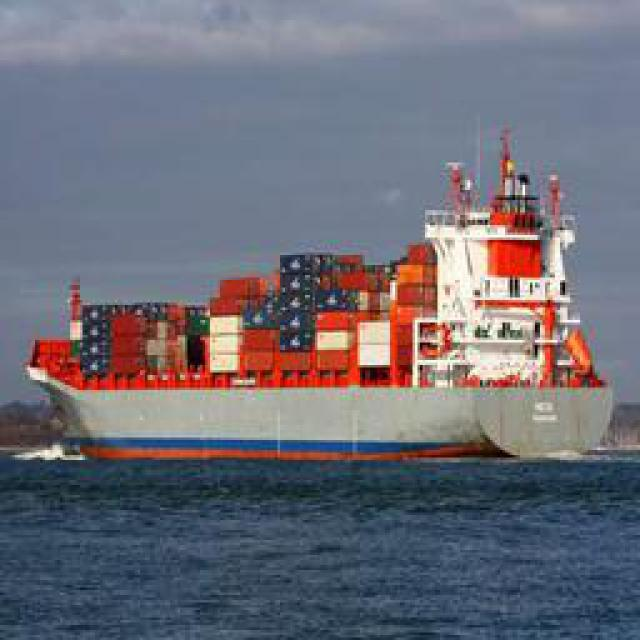Ship: (25, 116, 620, 471)
